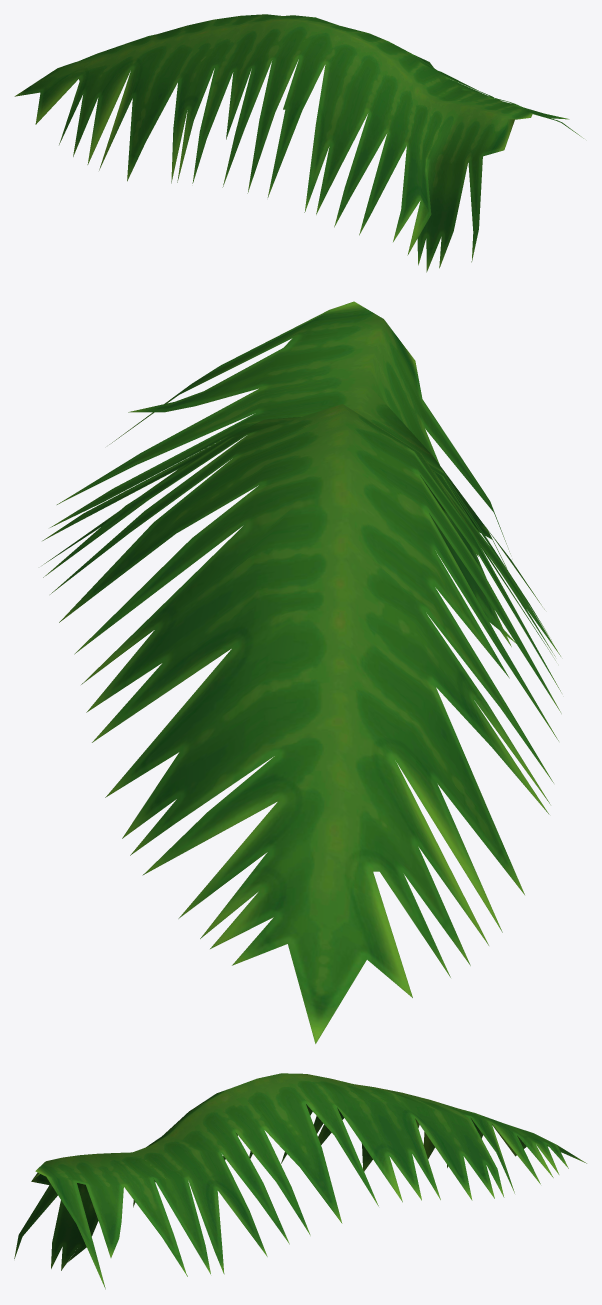
Rendered from palm_leaves_palm_leaves_0_001.obj.
3 views of the same model, one above another, from view 1: azimuth 30°, elevation 25°; view 2: azimuth 150°, elevation 25°; view 3: azimuth 270°, elevation 25° (orthographic). The views are drawn at different scales.
Parts seen in each view (by area): view 1: palm_leaves_palm_leaves_0.001; view 2: palm_leaves_palm_leaves_0.001; view 3: palm_leaves_palm_leaves_0.001.
Part boxes in pixels (x1=…): palm_leaves_palm_leaves_0.001: x1=14, y1=14, x2=583, y2=272; palm_leaves_palm_leaves_0.001: x1=42, y1=301, x2=561, y2=1043; palm_leaves_palm_leaves_0.001: x1=14, y1=1073, x2=586, y2=1289.
Bounding box in the file's own units: 18.99 × 9.26 × 25.87.
Materials: 1 (1 with a texture image).
